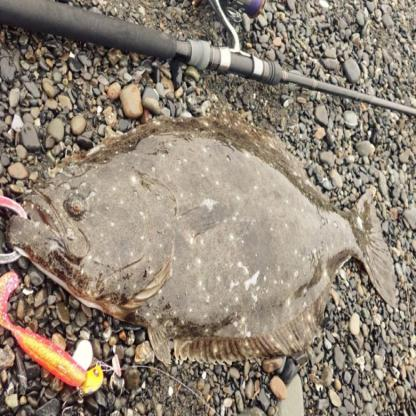flounder: (10, 101, 398, 372)
